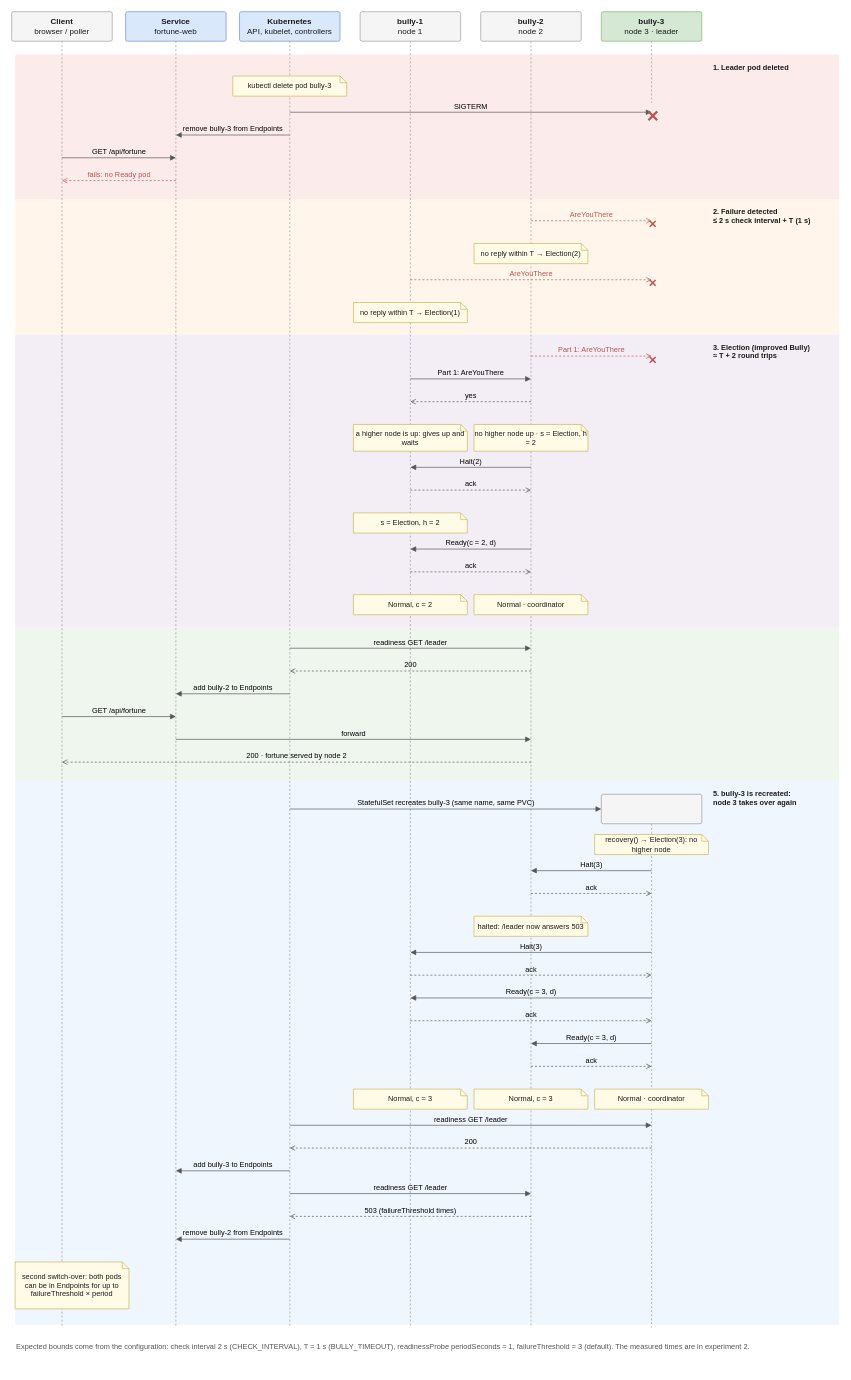
Image size: 851x1380. Some labels were removed from this diagram. The shapes that lost their labels are listed below. From the top down, each one's centre as x and y in pixels, then its label:
At point 427,703: "4. New leader becomes Ready ≤ 1 s probe period + Endpoints update".
At point 651,809: "bully-3 (new pod) node 3".
